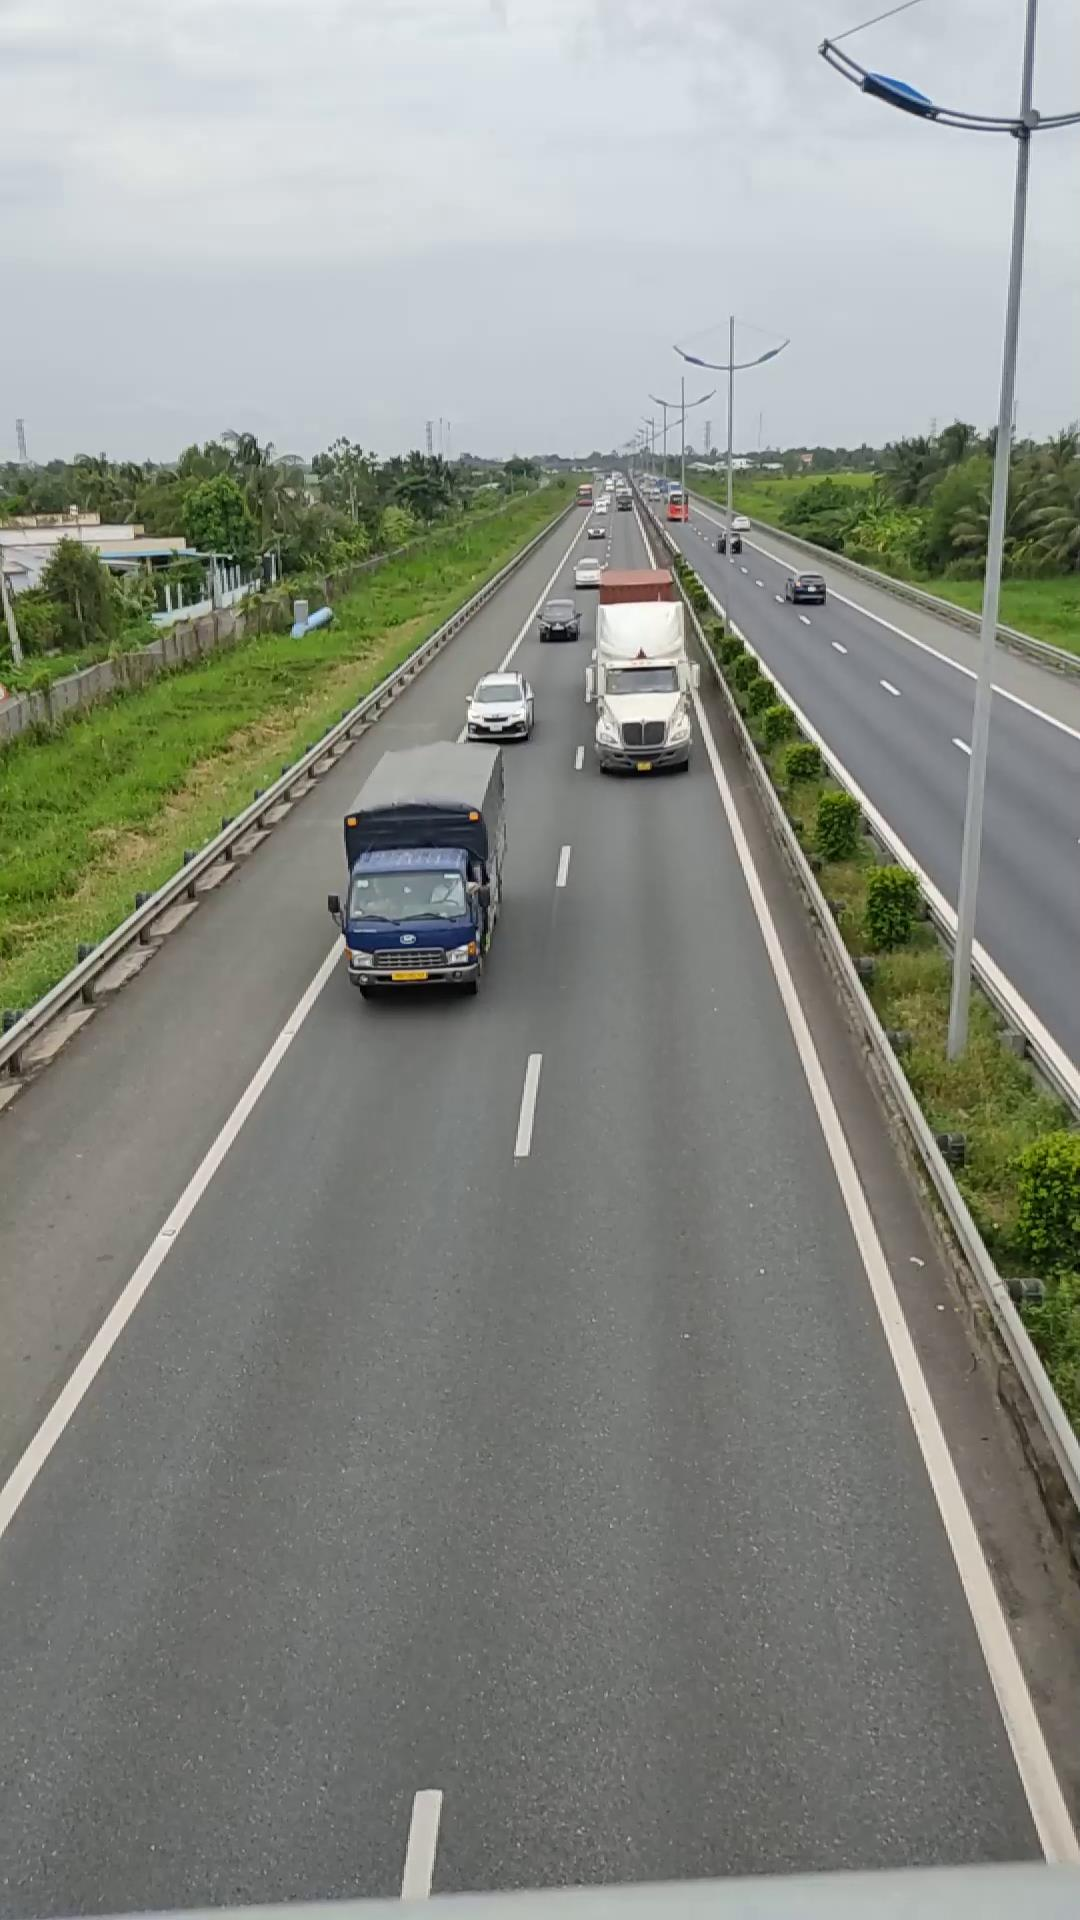car: (463, 671, 537, 741)
container: (583, 568, 698, 774)
truck: (334, 736, 510, 997)
